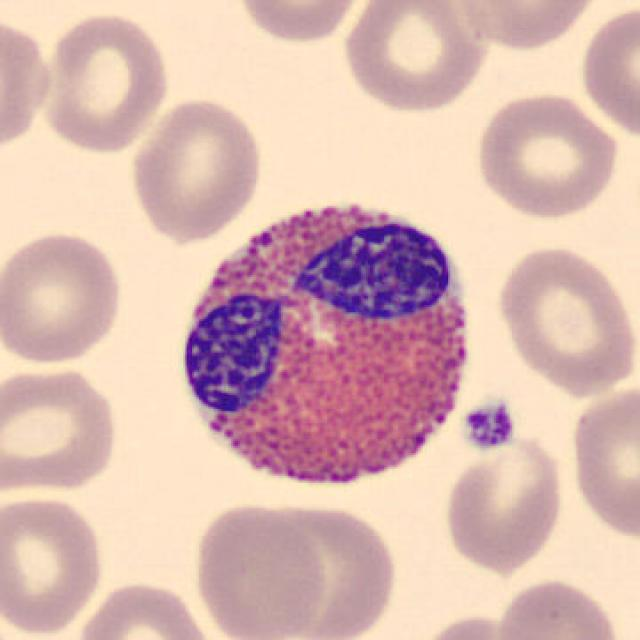Eosinophil: (165, 178, 486, 511)
Platelets: (459, 399, 517, 453)
RBC: (492, 242, 636, 398), (125, 94, 266, 244), (252, 499, 403, 638), (36, 7, 174, 155), (470, 88, 622, 220), (188, 500, 330, 640), (441, 428, 567, 575), (0, 225, 128, 368), (338, 0, 490, 115), (0, 361, 123, 499), (0, 490, 108, 636), (565, 379, 640, 543), (73, 576, 219, 640), (576, 2, 638, 143), (492, 575, 626, 640), (446, 0, 608, 53), (0, 11, 55, 160), (231, 0, 372, 46), (414, 610, 537, 640)
